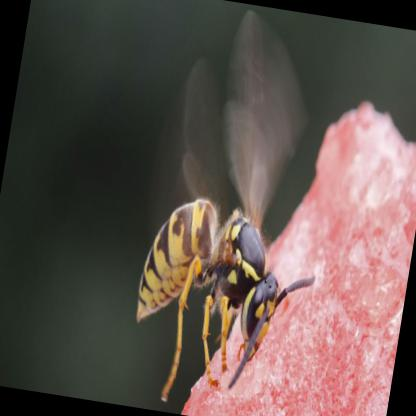fruit fly: (134, 196, 280, 399)
